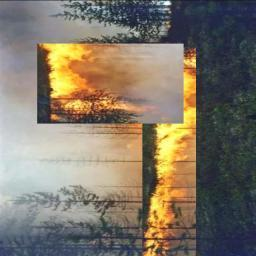Low smoke: (1, 120, 146, 252), (134, 46, 175, 118)
Medium fire: (161, 47, 199, 256), (38, 42, 92, 120)
